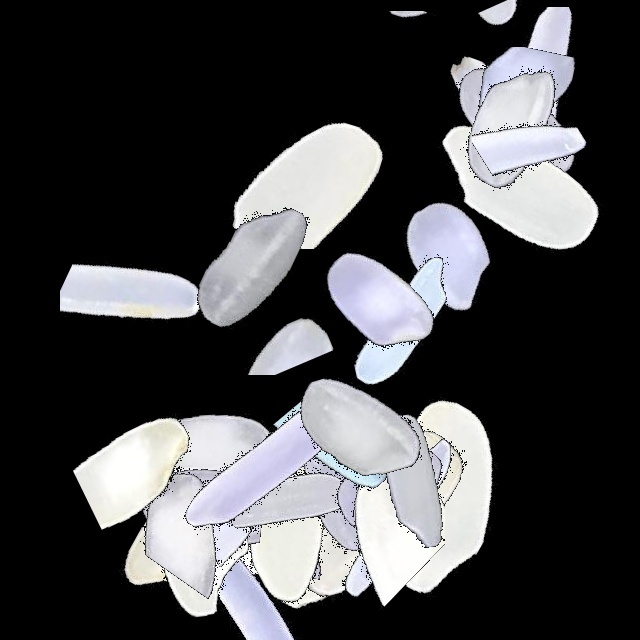Broken: (60, 185, 234, 435), (385, 7, 635, 179), (91, 379, 263, 629), (218, 345, 385, 595), (189, 85, 439, 249), (390, 47, 640, 208), (132, 378, 293, 628), (362, 151, 612, 311), (77, 484, 327, 640), (29, 386, 279, 540), (272, 335, 420, 585), (311, 390, 445, 640), (133, 509, 383, 640), (472, 0, 602, 250), (137, 252, 387, 375), (234, 390, 347, 640), (332, 390, 444, 640), (139, 479, 389, 587), (325, 381, 427, 631), (86, 418, 336, 519), (172, 523, 422, 604), (328, 325, 408, 575), (295, 11, 545, 87), (390, 0, 640, 75)
Full: (390, 0, 640, 250), (144, 390, 394, 640), (256, 382, 506, 632), (236, 390, 486, 640), (217, 390, 467, 640), (314, 372, 564, 622), (86, 390, 336, 640), (76, 388, 326, 638), (201, 390, 451, 640), (276, 195, 526, 445), (390, 17, 640, 267), (142, 348, 392, 598), (84, 325, 334, 575), (251, 390, 501, 640), (269, 390, 519, 640), (168, 390, 418, 640), (390, 60, 640, 310), (123, 140, 373, 390), (382, 0, 632, 250), (223, 367, 473, 617), (265, 360, 515, 610), (285, 355, 535, 605), (138, 341, 388, 591), (251, 175, 501, 425), (233, 301, 483, 551)
